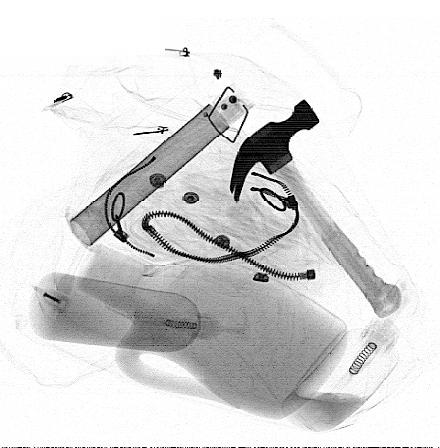Hammer: (229, 98, 402, 319)
